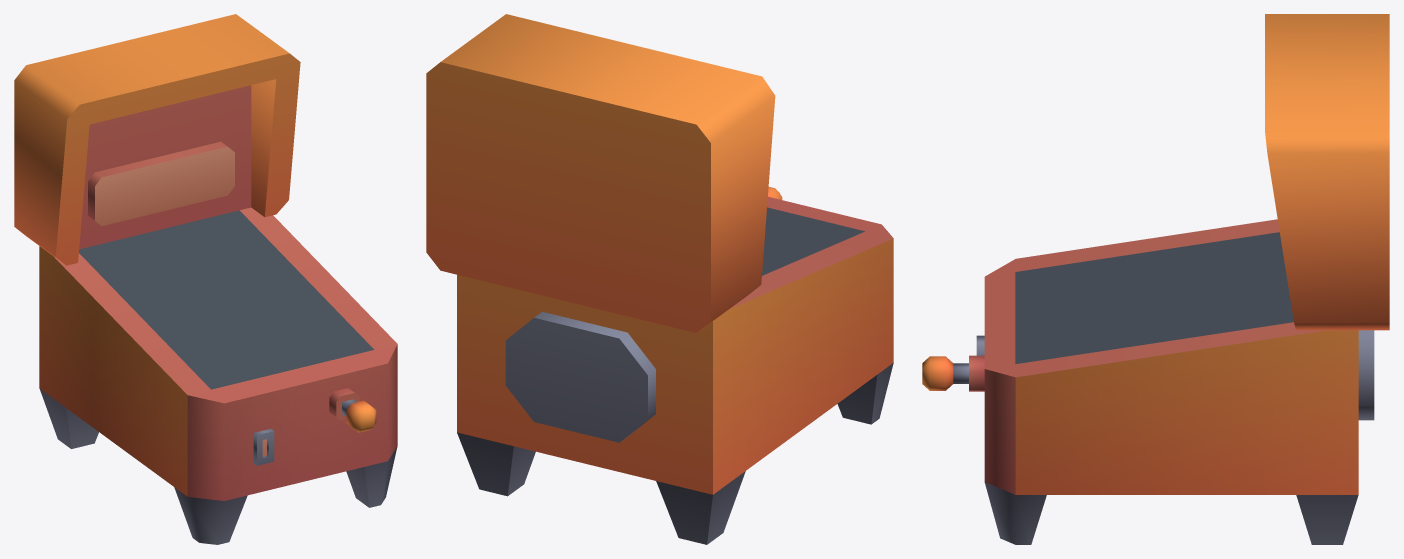
File: pinball.obj
3 renders of one model, left to right at view 1: azimuth 30°, elevation 25°; view 2: azimuth 150°, elevation 25°; view 3: azimuth 270°, elevation 25°, orthographic. The views are drawn at different scales.
Visible parts, largest first — view 1: pinball, (%ignore); view 2: pinball, (%ignore); view 3: pinball, (%ignore).
Part boxes in pixels (left/top/right/bottom): pinball: left=14, top=14, right=397, bottom=544; (%ignore): left=79, top=210, right=374, bottom=389; pinball: left=426, top=14, right=893, bottom=544; (%ignore): left=762, top=207, right=864, bottom=275; pinball: left=922, top=14, right=1389, bottom=544; (%ignore): left=1015, top=232, right=1293, bottom=364.
Bounding box in the file's own units: 0.5 × 0.7417 × 0.75.
